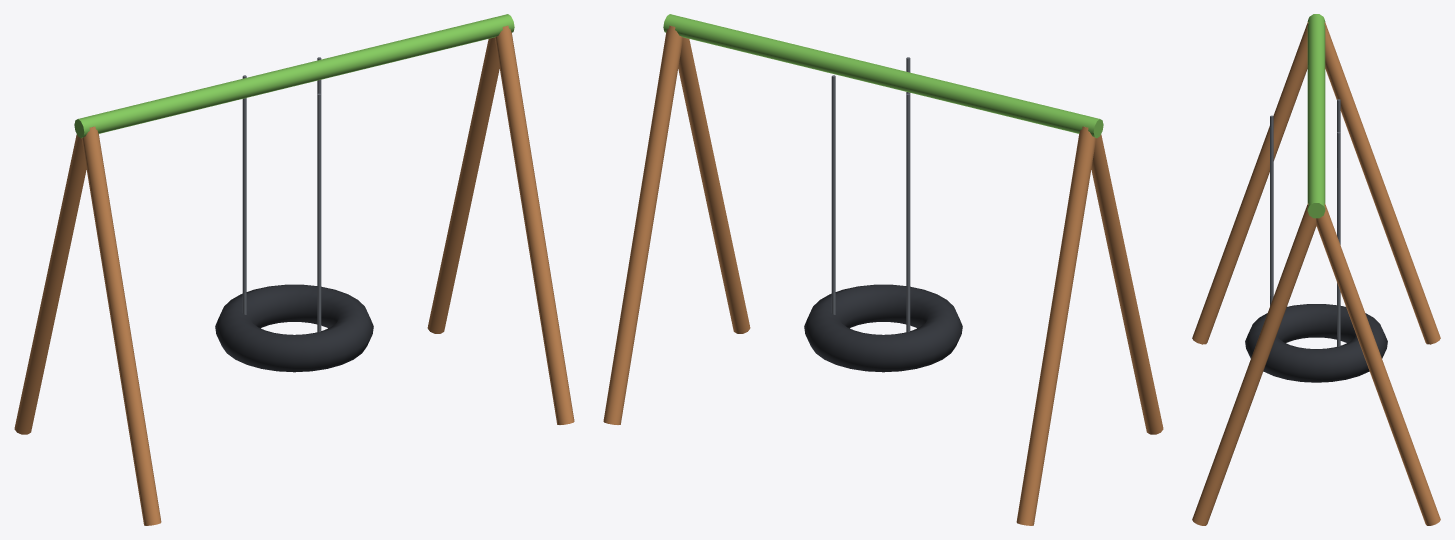
The model's file is kswing-tire.glb.
3 views of the same model, side by side, from view 1: azimuth 30°, elevation 25°; view 2: azimuth 150°, elevation 25°; view 3: azimuth 270°, elevation 25° (orthographic). The views are drawn at different scales.
Size of the model in its own units: 2.5 by 2 by 1.39.
